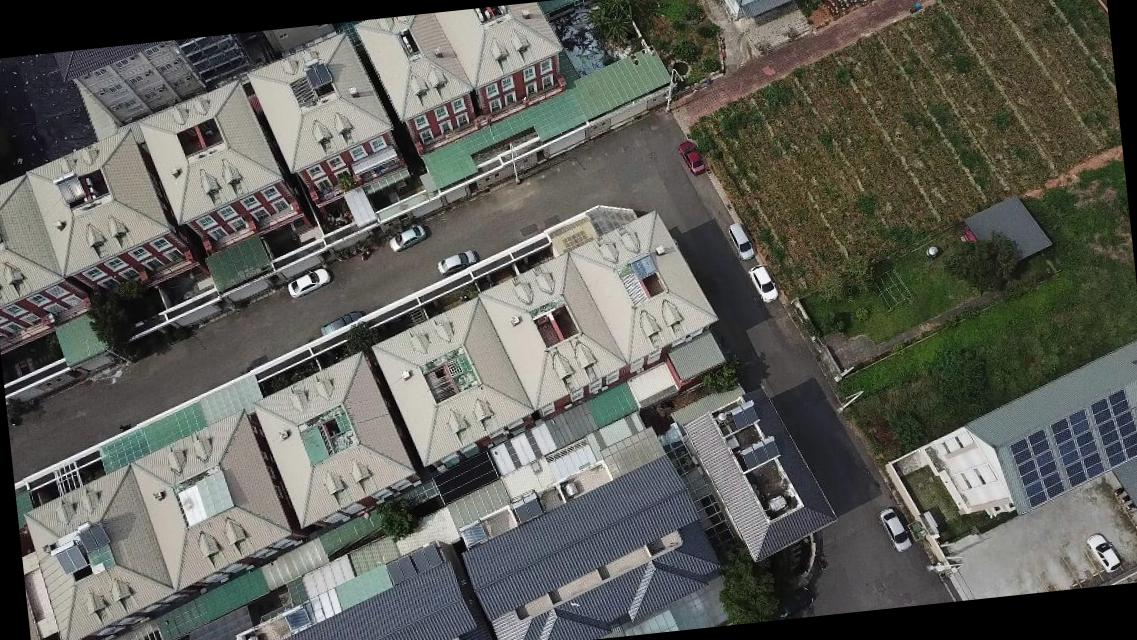vehicle: (283, 264, 334, 298), (876, 506, 912, 554), (318, 308, 366, 339), (748, 261, 780, 306), (1086, 532, 1120, 574), (386, 223, 429, 254), (724, 218, 754, 260), (676, 136, 708, 173), (436, 248, 478, 276)
